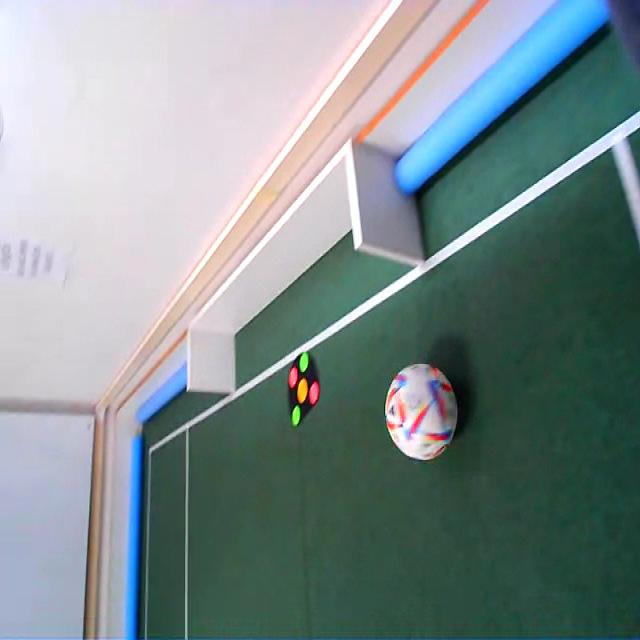ball: (385, 364, 458, 460)
